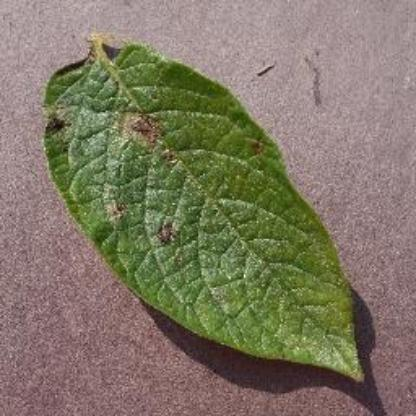Late-Blight: (34, 28, 372, 388)
